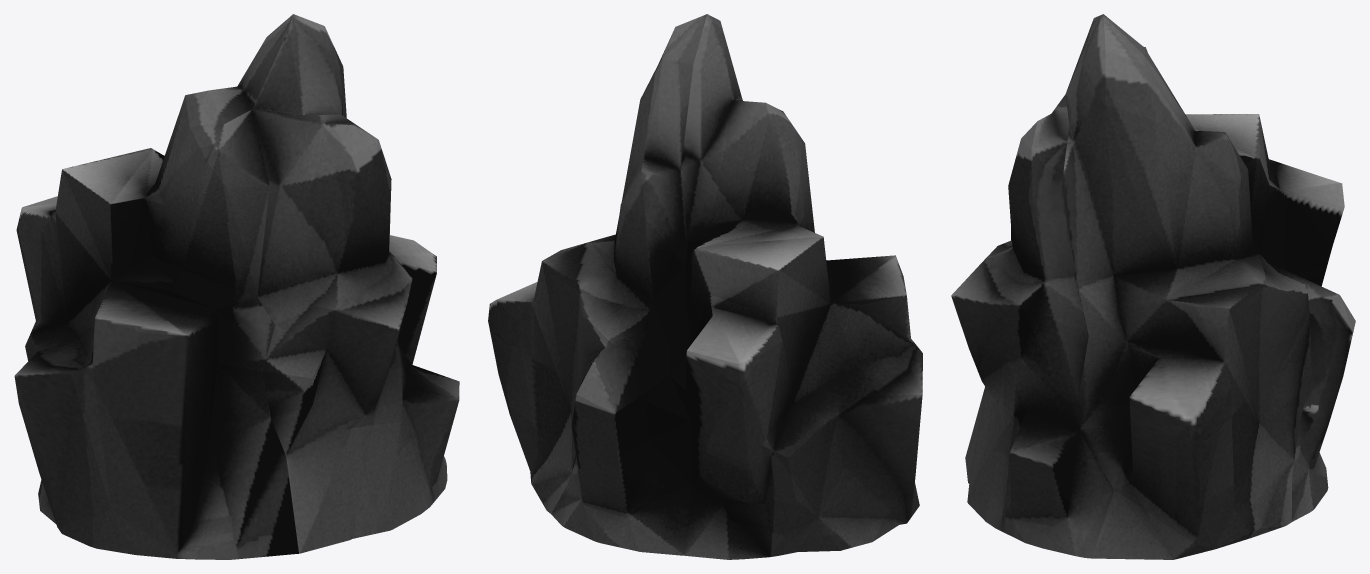
The model's file is rock.glb.
3 renders of one model, left to right at view 1: azimuth 30°, elevation 25°; view 2: azimuth 150°, elevation 25°; view 3: azimuth 270°, elevation 25°, orthographic. The views are drawn at different scales.
Parts seen in each view (by area): view 1: Cube; view 2: Cube; view 3: Cube.
Part boxes in pixels (x1,y1,x2,y2): Cube: (14, 14, 459, 559); Cube: (488, 14, 922, 559); Cube: (951, 14, 1355, 559).
Bounding box in the file's own units: 3.54 × 3.65 × 2.83.
Materials: 1 (1 with a texture image).
